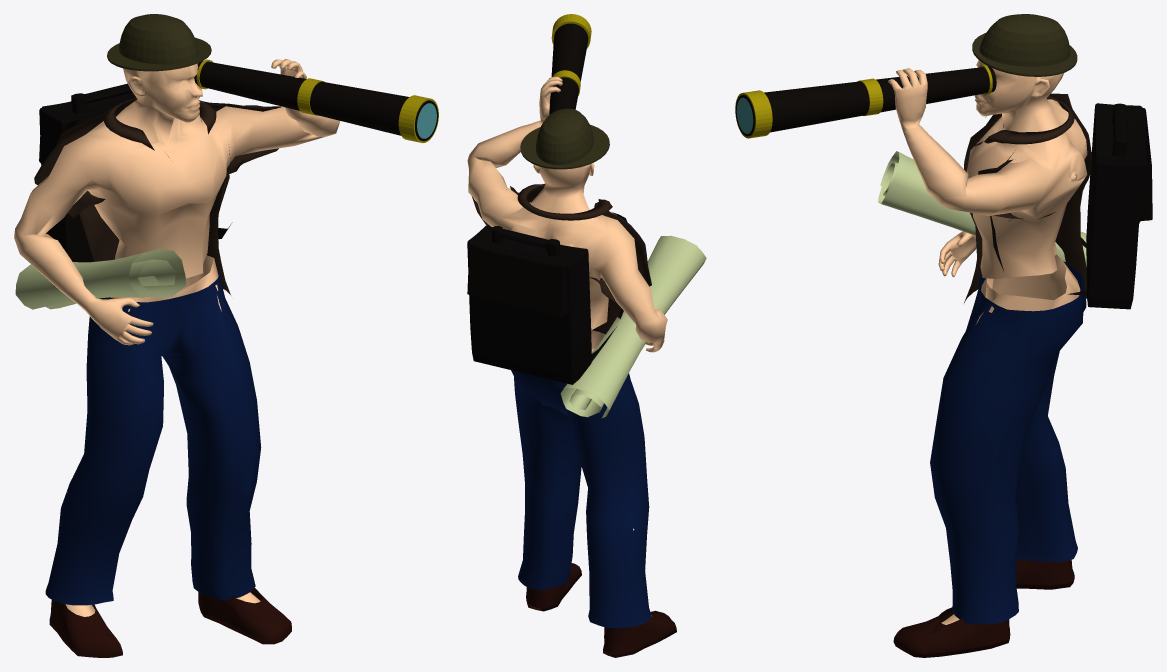
Rendered from explorer01.obj.
3 views of the same model, side by side, from view 1: azimuth 30°, elevation 25°; view 2: azimuth 150°, elevation 25°; view 3: azimuth 270°, elevation 25° (orthographic). The views are drawn at different scales.
Parts seen in each view (by area): view 1: pants_Circle.002_pants, Human.000_body.000_skin_player, telescope_body_Circle.009_cane, map_Plane.002_map, jacket_Circle.003_jacket, hat_Circle.014_hat.001, backpack_Cube.001_case, shoe_left_Plane.001_shoes, shoe_right_Plane_shoes, telescope_ring_Circle.011_caselock; view 2: pants_Circle.002_pants, backpack_Cube.001_case, Human.000_body.000_skin_player, map_Plane.002_map, hat_Circle.014_hat.001, jacket_Circle.003_jacket, telescope_body_Circle.009_cane, shoe_right_Plane_shoes, shoe_left_Plane.001_shoes, telescope_ring_Circle.011_caselock; view 3: pants_Circle.002_pants, Human.000_body.000_skin_player, backpack_Cube.001_case, telescope_body_Circle.009_cane, hat_Circle.014_hat.001, jacket_Circle.003_jacket, shoe_left_Plane.001_shoes, map_Plane.002_map, shoe_right_Plane_shoes, telescope_ring_Circle.011_caselock.
Part boxes in pixels (x1,y1,x2,y2): pants_Circle.002_pants: [45, 271, 261, 605]; Human.000_body.000_skin_player: [14, 59, 339, 616]; telescope_body_Circle.009_cane: [194, 61, 438, 141]; map_Plane.002_map: [15, 248, 186, 309]; jacket_Circle.003_jacket: [34, 98, 281, 294]; hat_Circle.014_hat.001: [107, 14, 211, 71]; backpack_Cube.001_case: [39, 83, 136, 262]; shoe_left_Plane.001_shoes: [198, 586, 291, 644]; shoe_right_Plane_shoes: [49, 600, 122, 657]; telescope_ring_Circle.011_caselock: [398, 95, 438, 143]; pants_Circle.002_pants: [511, 329, 651, 628]; backpack_Cube.001_case: [467, 225, 591, 384]; Human.000_body.000_skin_player: [467, 76, 667, 616]; map_Plane.002_map: [560, 235, 706, 418]; hat_Circle.014_hat.001: [520, 108, 609, 169]; jacket_Circle.003_jacket: [472, 183, 651, 333]; telescope_body_Circle.009_cane: [549, 23, 588, 114]; shoe_right_Plane_shoes: [603, 610, 676, 657]; shoe_left_Plane.001_shoes: [526, 563, 581, 611]; telescope_ring_Circle.011_caselock: [551, 14, 591, 48]; pants_Circle.002_pants: [930, 261, 1086, 624]; Human.000_body.000_skin_player: [888, 60, 1087, 624]; backpack_Cube.001_case: [1086, 103, 1152, 309]; telescope_body_Circle.009_cane: [735, 66, 996, 136]; hat_Circle.014_hat.001: [972, 14, 1077, 76]; jacket_Circle.003_jacket: [964, 93, 1091, 302]; shoe_left_Plane.001_shoes: [893, 607, 1010, 657]; map_Plane.002_map: [878, 151, 1086, 266]; shoe_right_Plane_shoes: [1016, 559, 1074, 589]; telescope_ring_Circle.011_caselock: [735, 90, 772, 138].
Size of the model in its own units: 0.8131 by 1.68 by 1.06.
